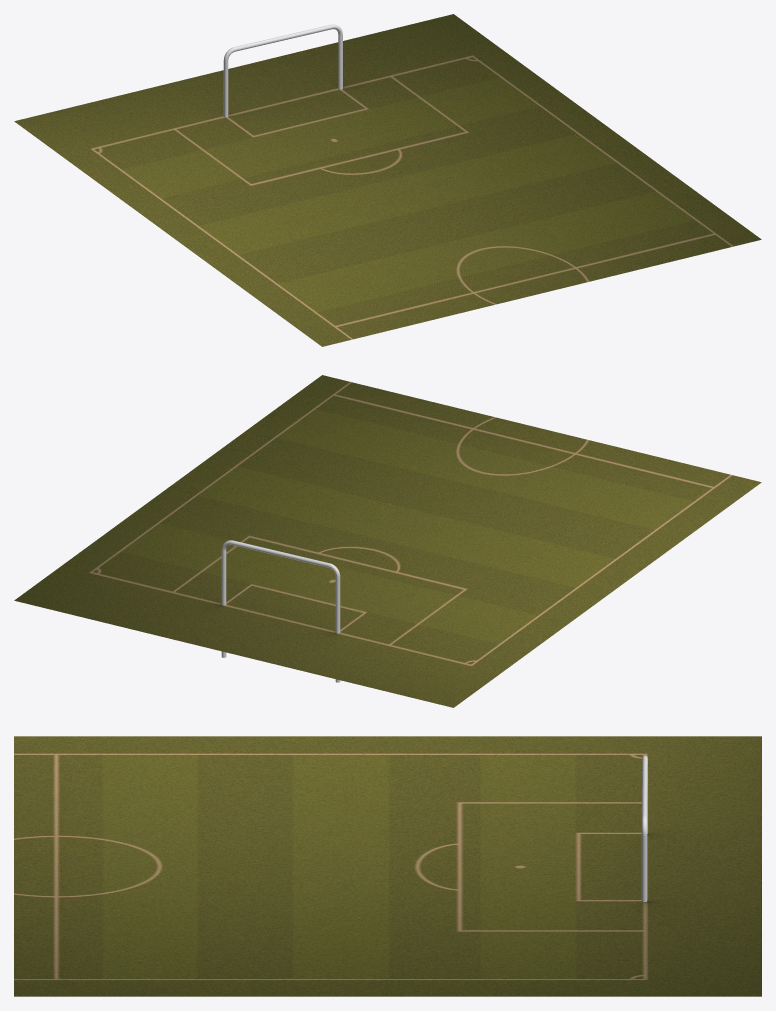
File: footballground.glb
3 views of the same model, one above another, from view 1: azimuth 30°, elevation 25°; view 2: azimuth 150°, elevation 25°; view 3: azimuth 270°, elevation 25° (orthographic). The views are drawn at different scales.
Parts seen in each view (by area): view 1: Plane, Cylinder; view 2: Plane, Cylinder; view 3: Plane, Cylinder.
Part boxes in pixels (x1,y1,x2,y2): Plane: [14, 14, 761, 346]; Cylinder: [223, 24, 342, 117]; Plane: [14, 375, 761, 707]; Cylinder: [221, 540, 340, 682]; Plane: [14, 736, 761, 996]; Cylinder: [641, 755, 647, 902].
Size of the model in its own units: 17.5 by 4.54 by 21.25.
Materials: 2 (1 with a texture image).
